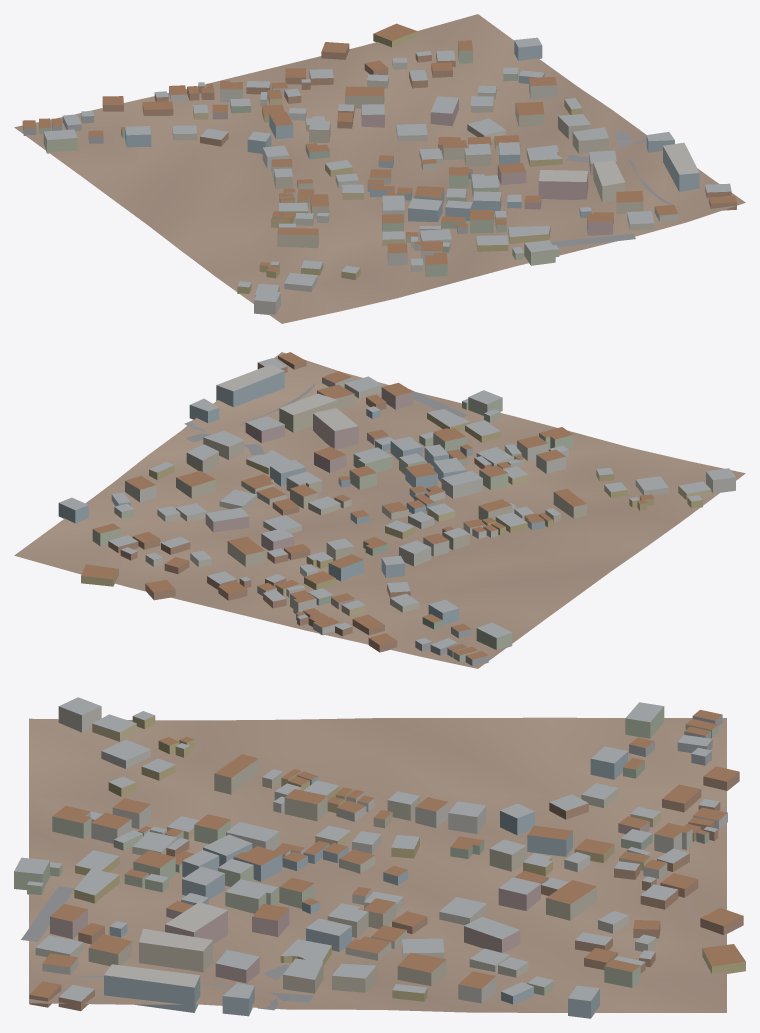
3 views of the same model, one above another, from view 1: azimuth 30°, elevation 25°; view 2: azimuth 150°, elevation 25°; view 3: azimuth 270°, elevation 25° (orthographic). The views are drawn at different scales.
Visible parts, largest first — view 1: Lo; view 2: Lo; view 3: Lo.
Boxes of the visible parts, box(x1,y1,x2,y2) form: Lo: box(14, 14, 745, 323); Lo: box(14, 352, 745, 668); Lo: box(14, 697, 745, 1018).
Bounding box in the file's own units: 265 × 15.34 × 268.
